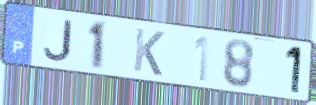1: (86, 18, 111, 74), (281, 44, 305, 98), (193, 35, 210, 83)
8: (222, 38, 256, 90)
J: (41, 19, 74, 64)
K: (131, 26, 166, 79)
